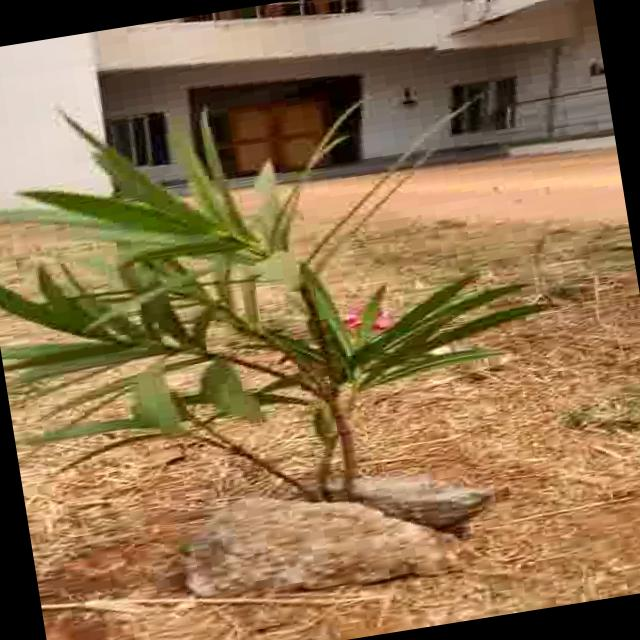OLEANDER: (0, 20, 583, 532)
